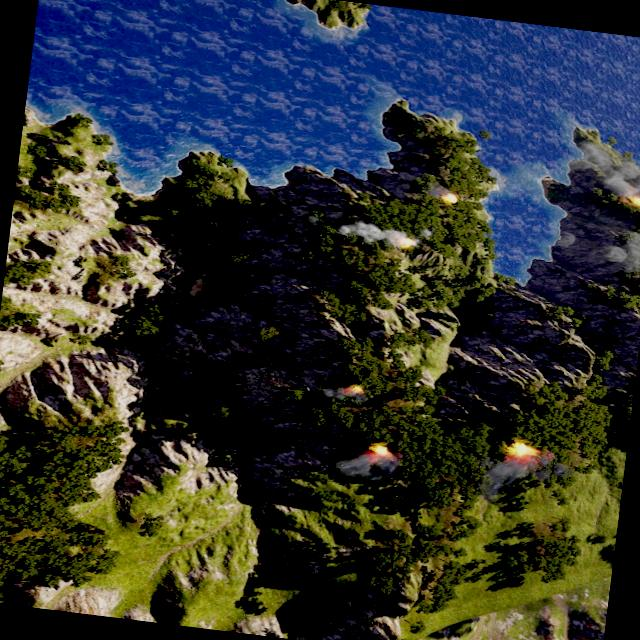fire: (508, 441, 538, 460), (368, 444, 390, 458), (623, 195, 640, 208), (396, 238, 414, 250), (440, 192, 456, 204), (344, 384, 362, 394)
smoke: (479, 446, 564, 502), (571, 143, 640, 203), (332, 214, 432, 250), (333, 446, 400, 486), (600, 231, 640, 274), (320, 384, 370, 404)
